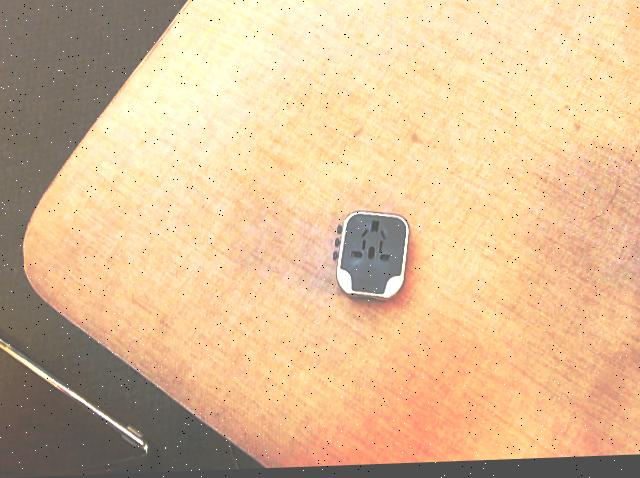adapter: (332, 212, 408, 305)
